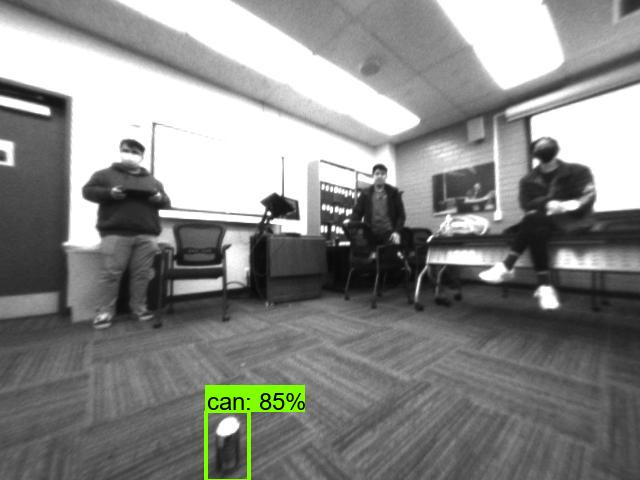can: (208, 408, 251, 475)
